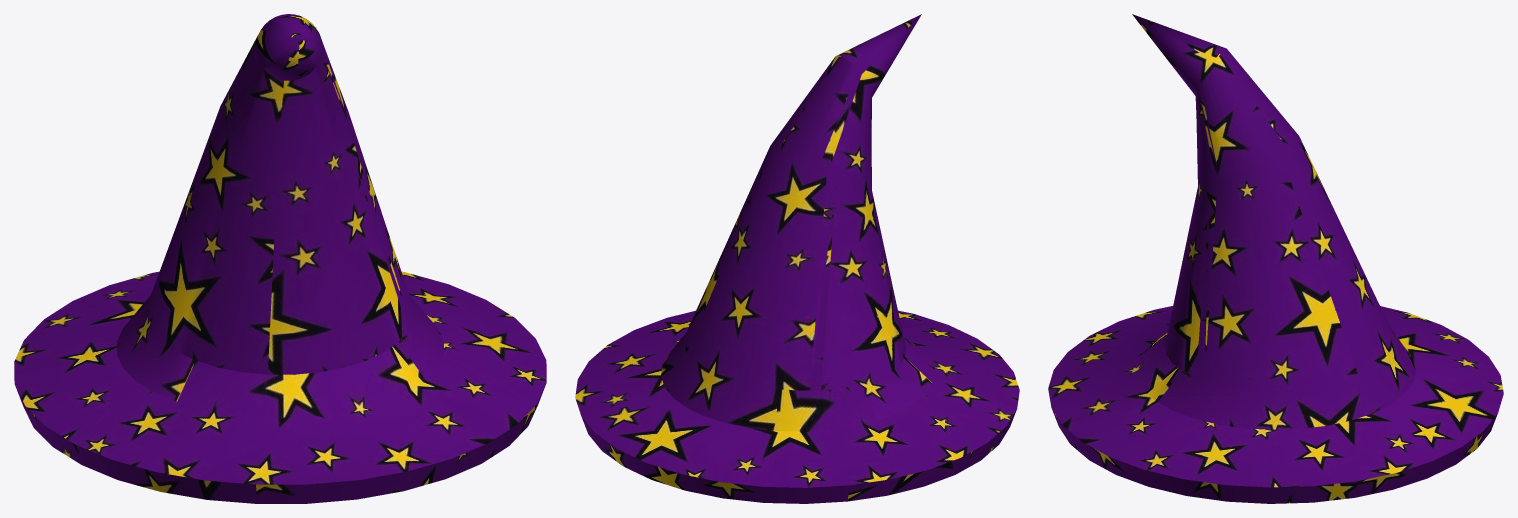
The model's file is Wizard hat.gltf.
3 renders of one model, left to right at view 1: azimuth 30°, elevation 25°; view 2: azimuth 150°, elevation 25°; view 3: azimuth 270°, elevation 25°, orthographic. The views are drawn at different scales.
Visible parts, largest first — view 1: Wizard hat; view 2: Wizard hat; view 3: Wizard hat.
Boxes of the visible parts, <box> form: Wizard hat: <box>14,14,546,503</box>; Wizard hat: <box>575,14,1019,503</box>; Wizard hat: <box>1048,14,1503,503</box>.
Bounding box in the file's own units: 0.5927 × 0.5307 × 0.5927.
1 material, 1 textured.
